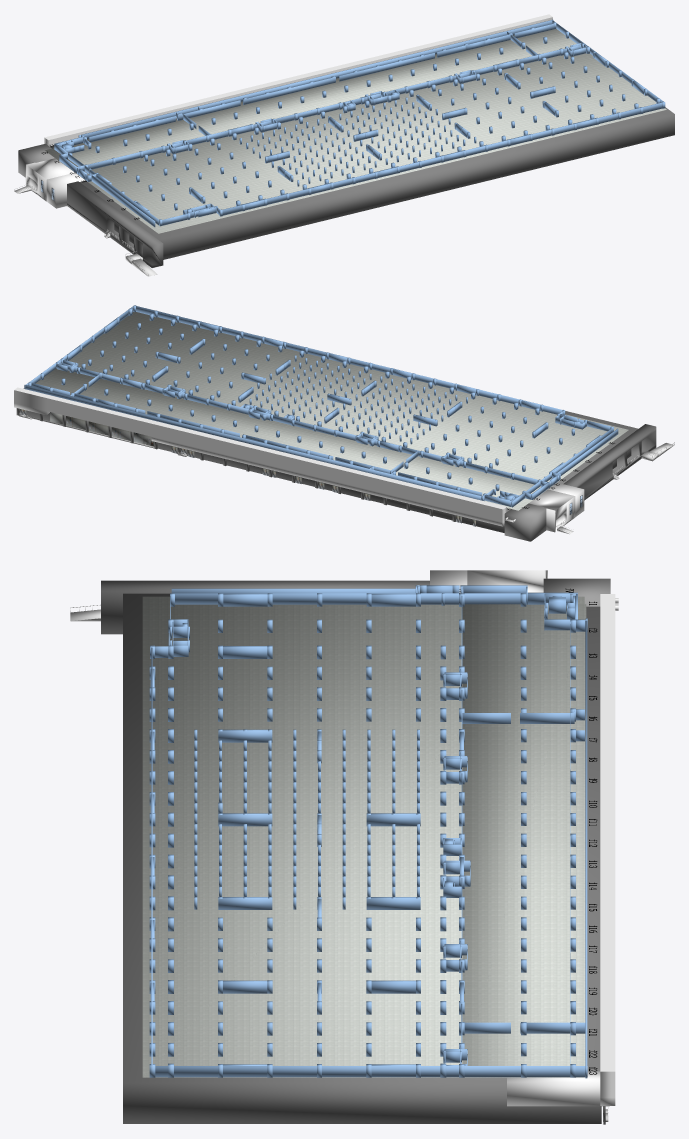
Rendered from 3f_mini.gltf.
The picture shows the model from 3 angles, top to bottom: view 1: azimuth 30°, elevation 25°; view 2: azimuth 150°, elevation 25°; view 3: azimuth 270°, elevation 25°; orthographic projection. The views are drawn at different scales.
Parts seen in each view (by area): view 1: fab_n2_dimian_25f, fab_n2_waiguan_25_77, fab_n2_qiang_25f_1, fab_n2_waiguan_25_79, fab_n2_waiguan_25_210, fab_n2_qiang_25f_459, fab_n2_qiang_25f, fab_n2_waiguan_25_209, fab_n2_waiguan_25_70, fab_n2_waiguan_25_76, fab_n2_qiang_25f_512, fab_n2_qiang_25f_534 (+6 smaller); view 2: fab_n2_dimian_25f, fab_n2_waiguan_25_79, fab_n2_qiang_25f_1, fab_n2_waiguan_25_77, fab_n2_waiguan_25_210, fab_n2_qiang_25f_459, fab_n2_qiang_25f, fab_n2_waiguan_25_76, fab_n2_waiguan_25_209, fab_n2_qiang_25f_527, fab_n2_waiguan_25_70, fab_n2_qiang_25f_366 (+3 smaller); view 3: fab_n2_dimian_25f, fab_n2_qiang_25f_1, fab_n2_waiguan_25_77, fab_n2_waiguan_25_79, fab_n2_qiang_25f_2, fab_n2_waiguan_25_210, fab_n2_waiguan_25_78, fab_n2_qiang_25f_366, fab_n2_qiang_25f_365, fab_n2_waiguan_25_209, fab_n2_qiang_25f_459, fab_n2_waiguan_25_76 (+1 smaller).
Part boxes in pixels (bbox=[...]): fab_n2_dimian_25f: bbox=[45, 53, 666, 233]; fab_n2_waiguan_25_77: bbox=[50, 107, 674, 259]; fab_n2_qiang_25f_1: bbox=[53, 29, 576, 164]; fab_n2_waiguan_25_79: bbox=[44, 14, 552, 146]; fab_n2_waiguan_25_210: bbox=[67, 181, 163, 267]; fab_n2_qiang_25f_459: bbox=[82, 19, 553, 139]; fab_n2_qiang_25f: bbox=[222, 102, 663, 215]; fab_n2_waiguan_25_209: bbox=[25, 158, 74, 201]; fab_n2_waiguan_25_70: bbox=[46, 172, 84, 208]; fab_n2_waiguan_25_76: bbox=[18, 143, 54, 177]; fab_n2_qiang_25f_512: bbox=[339, 52, 434, 81]; fab_n2_qiang_25f_534: bbox=[243, 77, 335, 104]; fab_n2_dimian_25f: bbox=[68, 312, 628, 510]; fab_n2_waiguan_25_79: bbox=[14, 387, 506, 526]; fab_n2_qiang_25f_1: bbox=[35, 368, 537, 508]; fab_n2_waiguan_25_77: bbox=[20, 409, 638, 532]; fab_n2_waiguan_25_210: bbox=[563, 424, 656, 500]; fab_n2_qiang_25f_459: bbox=[24, 385, 481, 500]; fab_n2_qiang_25f: bbox=[135, 305, 562, 414]; fab_n2_waiguan_25_76: bbox=[504, 503, 546, 541]; fab_n2_waiguan_25_209: bbox=[529, 489, 575, 532]; fab_n2_qiang_25f_527: bbox=[273, 415, 355, 440]; fab_n2_waiguan_25_70: bbox=[548, 482, 584, 516]; fab_n2_qiang_25f_366: bbox=[525, 428, 612, 493]; fab_n2_dimian_25f: bbox=[142, 596, 584, 1077]; fab_n2_qiang_25f_1: bbox=[462, 604, 586, 1065]; fab_n2_waiguan_25_77: bbox=[123, 593, 601, 1123]; fab_n2_waiguan_25_79: bbox=[600, 594, 615, 1105]; fab_n2_qiang_25f_2: bbox=[155, 1066, 587, 1077]; fab_n2_waiguan_25_210: bbox=[101, 580, 429, 634]; fab_n2_waiguan_25_78: bbox=[507, 1071, 609, 1106]; fab_n2_qiang_25f_366: bbox=[175, 593, 520, 604]; fab_n2_qiang_25f_365: bbox=[171, 588, 415, 593]; fab_n2_waiguan_25_209: bbox=[467, 570, 547, 592]; fab_n2_qiang_25f_459: bbox=[585, 620, 587, 1078]; fab_n2_waiguan_25_76: bbox=[543, 578, 610, 606].
Size of the model in its own units: 349 by 17.17 by 154.
40 materials, 29 textured.
